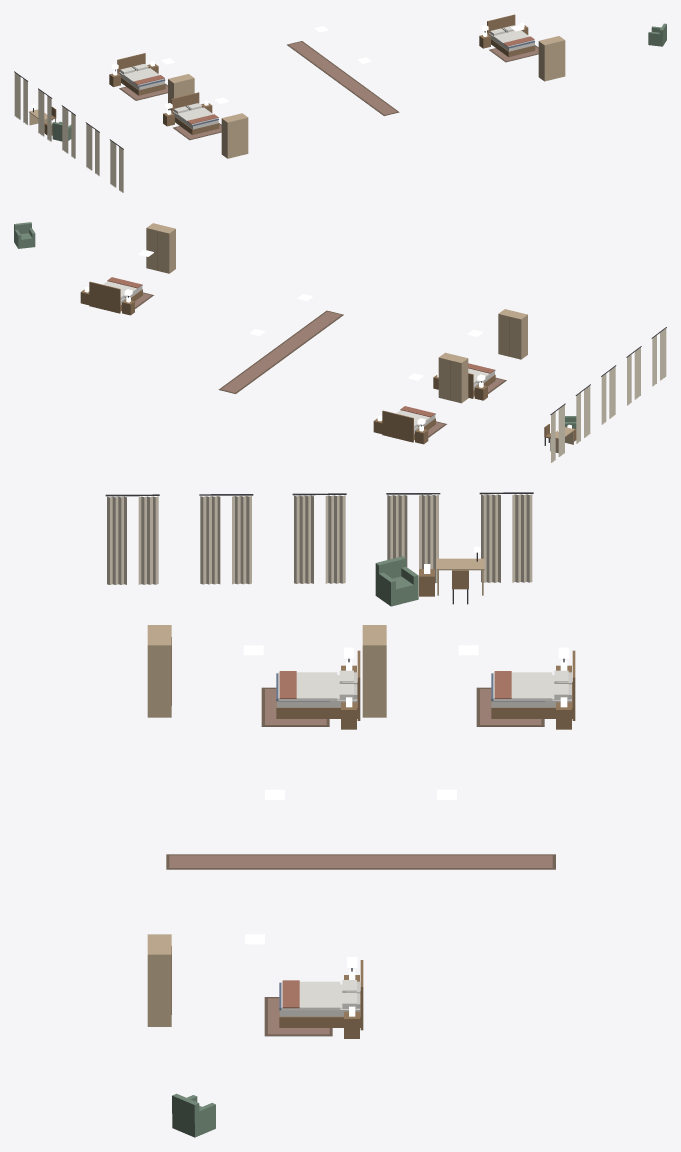
File: fine-s3.glb
3 renders of one model, top to bottom at view 1: azimuth 30°, elevation 25°; view 2: azimuth 150°, elevation 25°; view 3: azimuth 270°, elevation 25°, orthographic. The views are drawn at different scales.
Parts seen in each view (by area): view 1: soft-s3, dresser.008, dresser.006, bed-frame.008, bed-frame.006, bed-frame.007, dresser.007, lounge-chair.004; view 2: soft-s3, dresser.007, dresser.008, dresser.006, bed-frame.007, bed-frame.006, lounge-chair.004; view 3: soft-s3, dresser.006, dresser.007, dresser.008, lounge-chair.005, bed-frame.007, bed-frame.008, bed-frame.006, lounge-chair.004.
Boxes of the visible parts, left/top/right/bottom form: soft-s3: left=14, top=25, right=538, bottom=192; dresser.008: left=221, top=113, right=248, bottom=158; dresser.006: left=538, top=36, right=565, bottom=81; bed-frame.008: left=171, top=92, right=219, bottom=134; bed-frame.006: left=487, top=14, right=535, bottom=57; bed-frame.007: left=117, top=53, right=165, bottom=95; dresser.007: left=168, top=74, right=194, bottom=110; lounge-chair.004: left=648, top=23, right=666, bottom=46; soft-s3: left=103, top=277, right=666, bottom=462; dresser.007: left=438, top=352, right=468, bottom=403; dresser.008: left=498, top=309, right=527, bottom=359; dresser.006: left=146, top=223, right=175, bottom=273; bed-frame.007: left=382, top=410, right=435, bottom=442; bed-frame.006: left=89, top=281, right=142, bottom=313; lounge-chair.004: left=14, top=222, right=35, bottom=248; soft-s3: left=105, top=492, right=570, bottom=1036; dresser.006: left=147, top=934, right=171, bottom=1026; dresser.007: left=362, top=625, right=386, bottom=717; dresser.008: left=147, top=625, right=171, bottom=717; lounge-chair.005: left=375, top=556, right=418, bottom=606; bed-frame.007: left=491, top=650, right=575, bottom=720; bed-frame.008: left=276, top=650, right=360, bottom=720; bed-frame.006: left=279, top=960, right=363, bottom=1030; lounge-chair.004: left=172, top=1093, right=215, bottom=1137.
Size of the model in its own units: 32.82 by 2.51 by 11.74.
